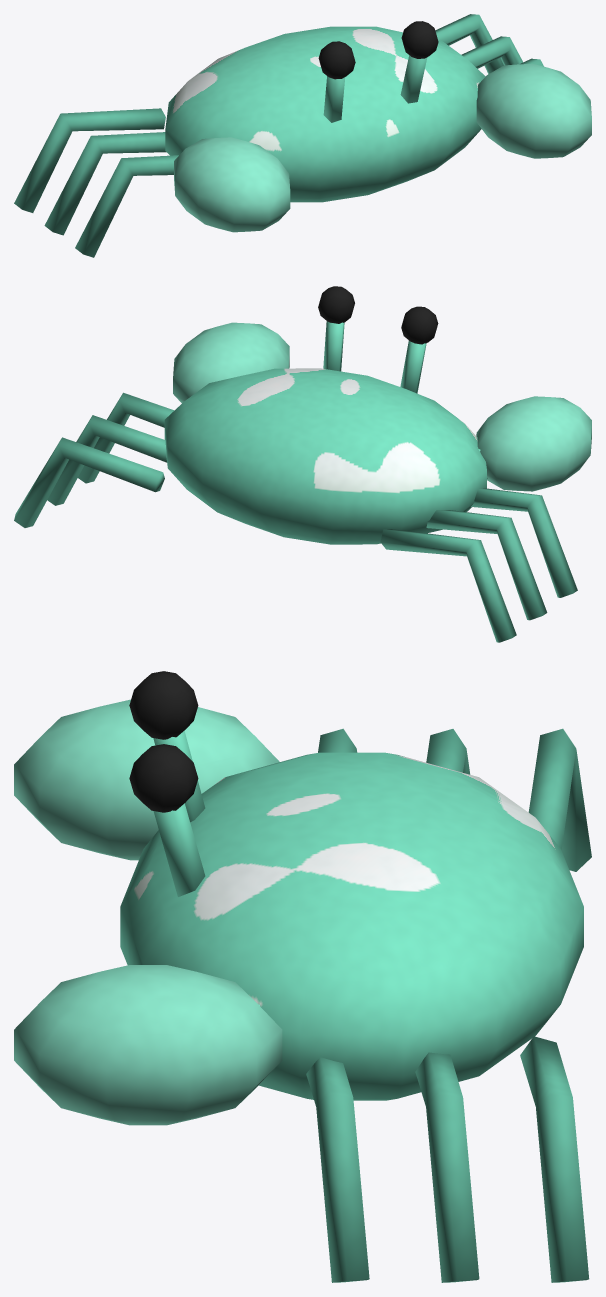
Rendered from glow_crab.glb.
The picture shows the model from 3 angles, top to bottom: view 1: azimuth 30°, elevation 25°; view 2: azimuth 150°, elevation 25°; view 3: azimuth 270°, elevation 25°; orthographic projection. The views are drawn at different scales.
Visible parts, largest first — view 1: GlowCrab; view 2: GlowCrab; view 3: GlowCrab.
Part boxes in pixels (x1,y1,x2,y2): GlowCrab: [14, 14, 591, 257]; GlowCrab: [14, 286, 591, 642]; GlowCrab: [14, 671, 591, 1282].
Bounding box in the file's own units: 0.6619 × 0.2577 × 0.3684.
1 material, 1 textured.
